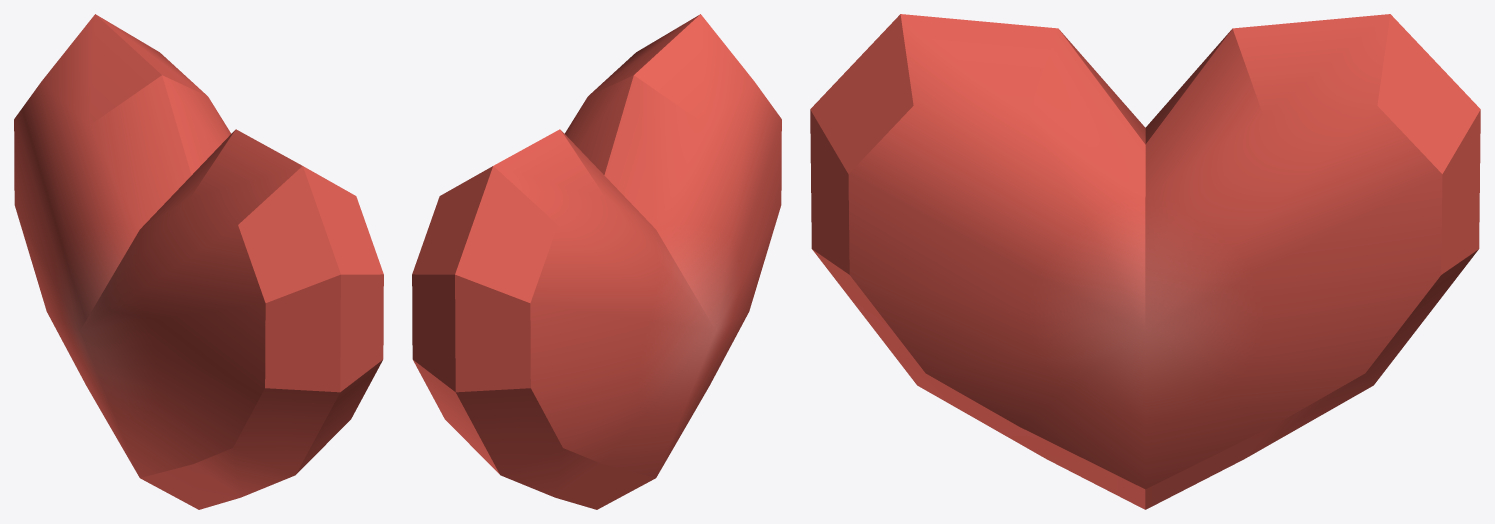
Rendered from Heart2.fbx.
The picture shows the model from 3 angles, left to right: view 1: azimuth 30°, elevation 25°; view 2: azimuth 150°, elevation 25°; view 3: azimuth 270°, elevation 25°; orthographic projection. The views are drawn at different scales.
Visible parts, largest first — view 1: Cylinder; view 2: Cylinder; view 3: Cylinder.
Part boxes in pixels (x1=…): Cylinder: x1=14, y1=14, x2=383, y2=509; Cylinder: x1=412, y1=14, x2=781, y2=509; Cylinder: x1=810, y1=14, x2=1480, y2=509.
Size of the model in its own units: 1 by 1.7 by 2.08.
